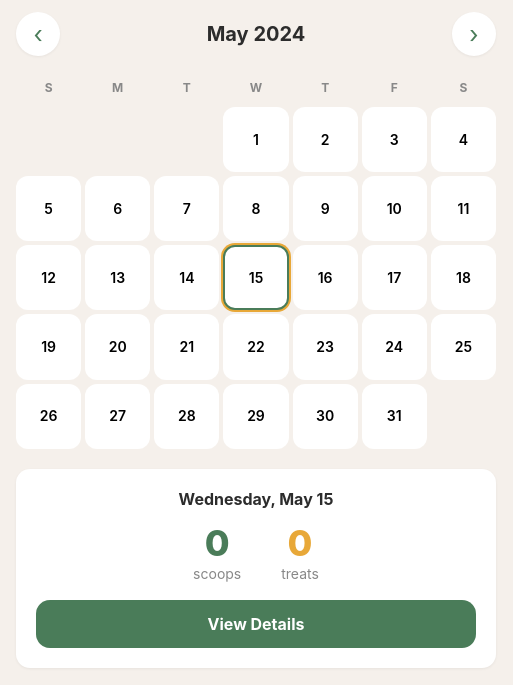
Test: Calendar › prev button navigates to previous month and refetches
Expected: the heading "May 2024" is shown, [207,22,305,46]
What coordinates should you click on to do the following:
click the button named "Previous month"
I would click on:
 (38, 34)
Its box is [16,12,60,56].
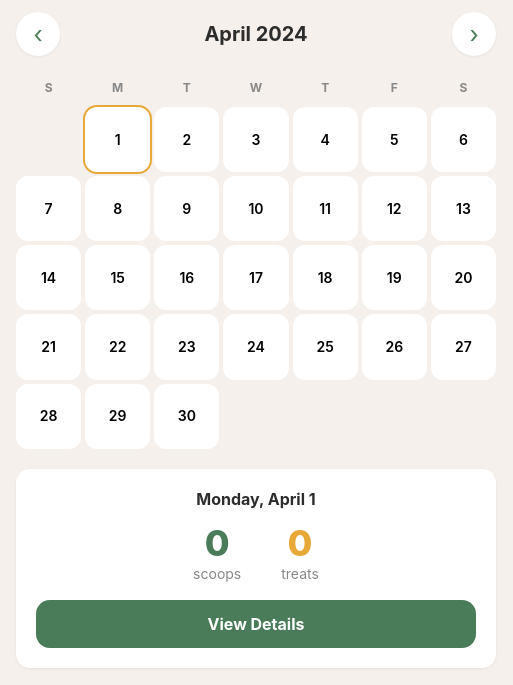
Result: the heading "April 2024" is shown at [204,22,308,46]
